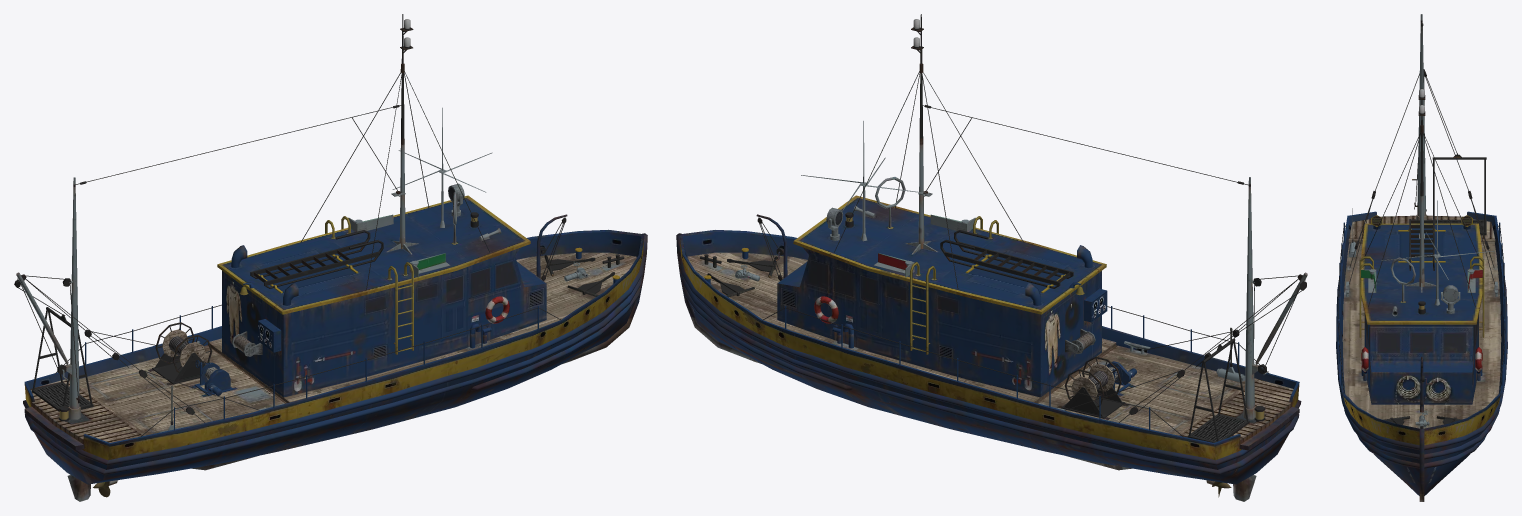
File: smallship.glb
The picture shows the model from 3 angles, left to right: view 1: azimuth 30°, elevation 25°; view 2: azimuth 150°, elevation 25°; view 3: azimuth 270°, elevation 25°; orthographic projection. The views are drawn at different scales.
Visible parts, largest first — view 1: LSB011Shape; view 2: LSB011Shape; view 3: LSB011Shape, AM085_TBS_AntennaShape_0009, Signalling_Lamp_300mmShape_0005, AM047_Running_Lights_RShape_0017, AM048_Running_Lights_LShape_0019.
Boxes of the visible parts, x1,y1,x2,y2 form: LSB011Shape: [14, 14, 647, 501]; LSB011Shape: [676, 14, 1307, 501]; LSB011Shape: [1336, 14, 1507, 501]; AM085_TBS_AntennaShape_0009: [1380, 200, 1493, 305]; Signalling_Lamp_300mmShape_0005: [1441, 285, 1460, 313]; AM047_Running_Lights_RShape_0017: [1361, 269, 1376, 292]; AM048_Running_Lights_LShape_0019: [1467, 269, 1482, 292].
Bounding box in the file's own units: 4 × 2.49 × 1.08.
9 materials, 9 textured.
